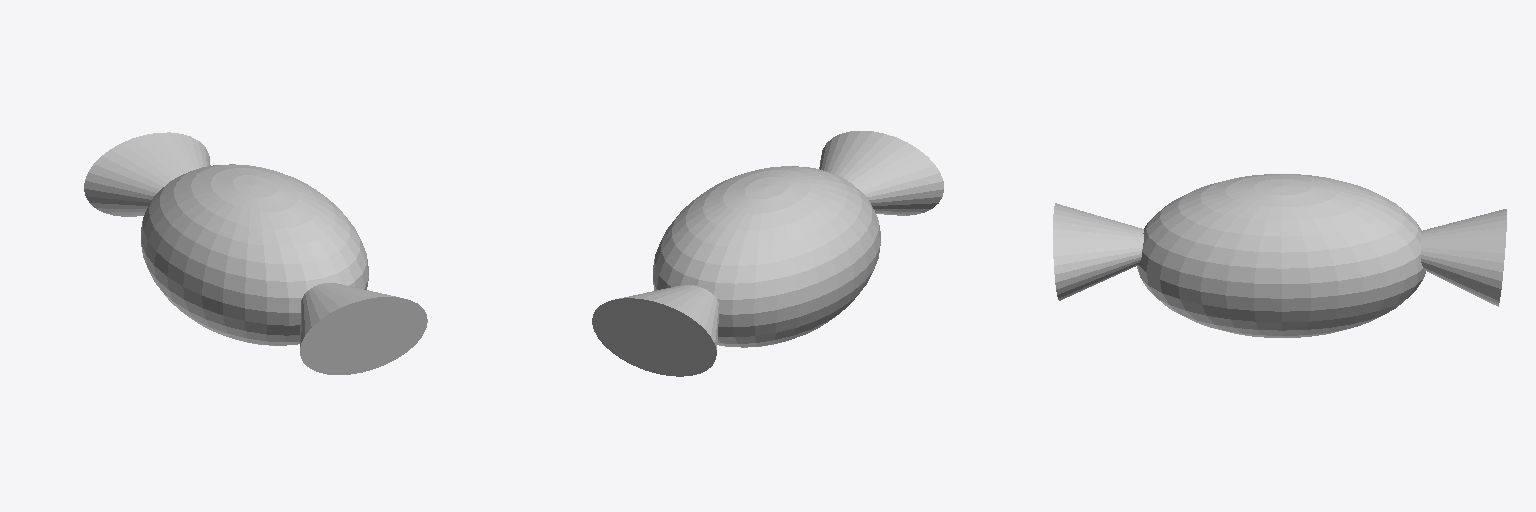
File: wrapped_sweet.obj
3 views of the same model, side by side, from view 1: azimuth 30°, elevation 25°; view 2: azimuth 150°, elevation 25°; view 3: azimuth 270°, elevation 25° (orthographic).
Parts seen in each view (by area): view 1: Sphere, Cone; view 2: Sphere, Cone; view 3: Sphere, Cone.
Boxes of the visible parts, box(x1,y1,x2,y2) form: Sphere: box(141, 164, 368, 345); Cone: box(84, 132, 427, 374); Sphere: box(653, 166, 880, 347); Cone: box(592, 131, 943, 376); Sphere: box(1137, 174, 1425, 337); Cone: box(1053, 203, 1506, 306).
Bounding box in the file's own units: 0.987 × 0.7548 × 2.21.